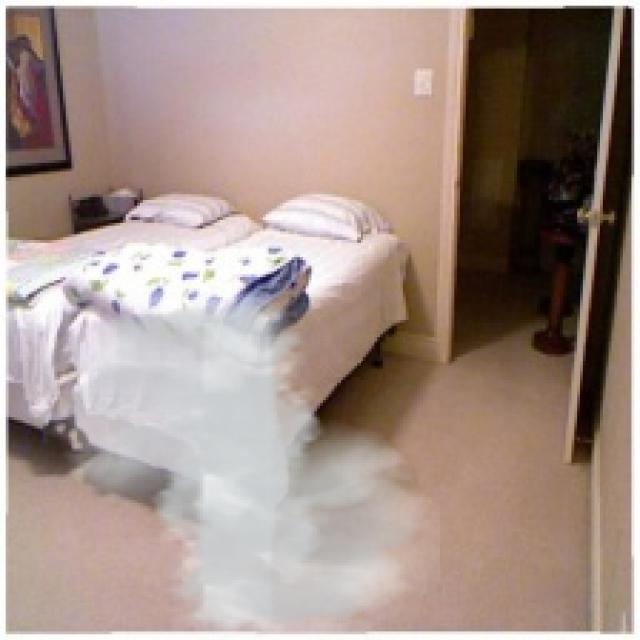smoke: (34, 292, 443, 637)
